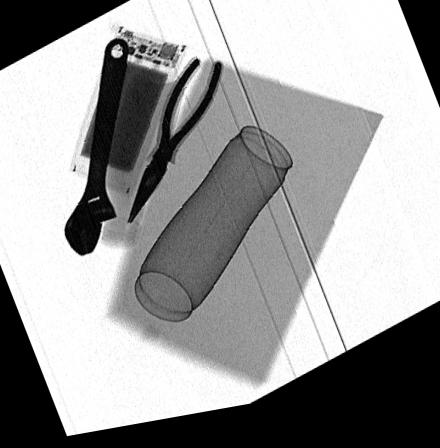Pliers: (127, 62, 224, 232)
Powerbank: (67, 24, 188, 200)
Wrench: (63, 40, 128, 260)
